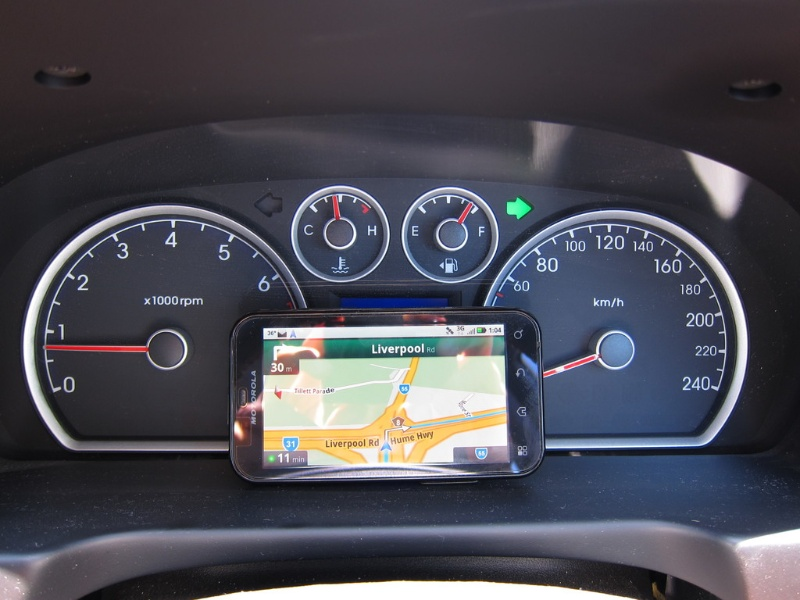cellphone: (223, 313, 551, 486)
